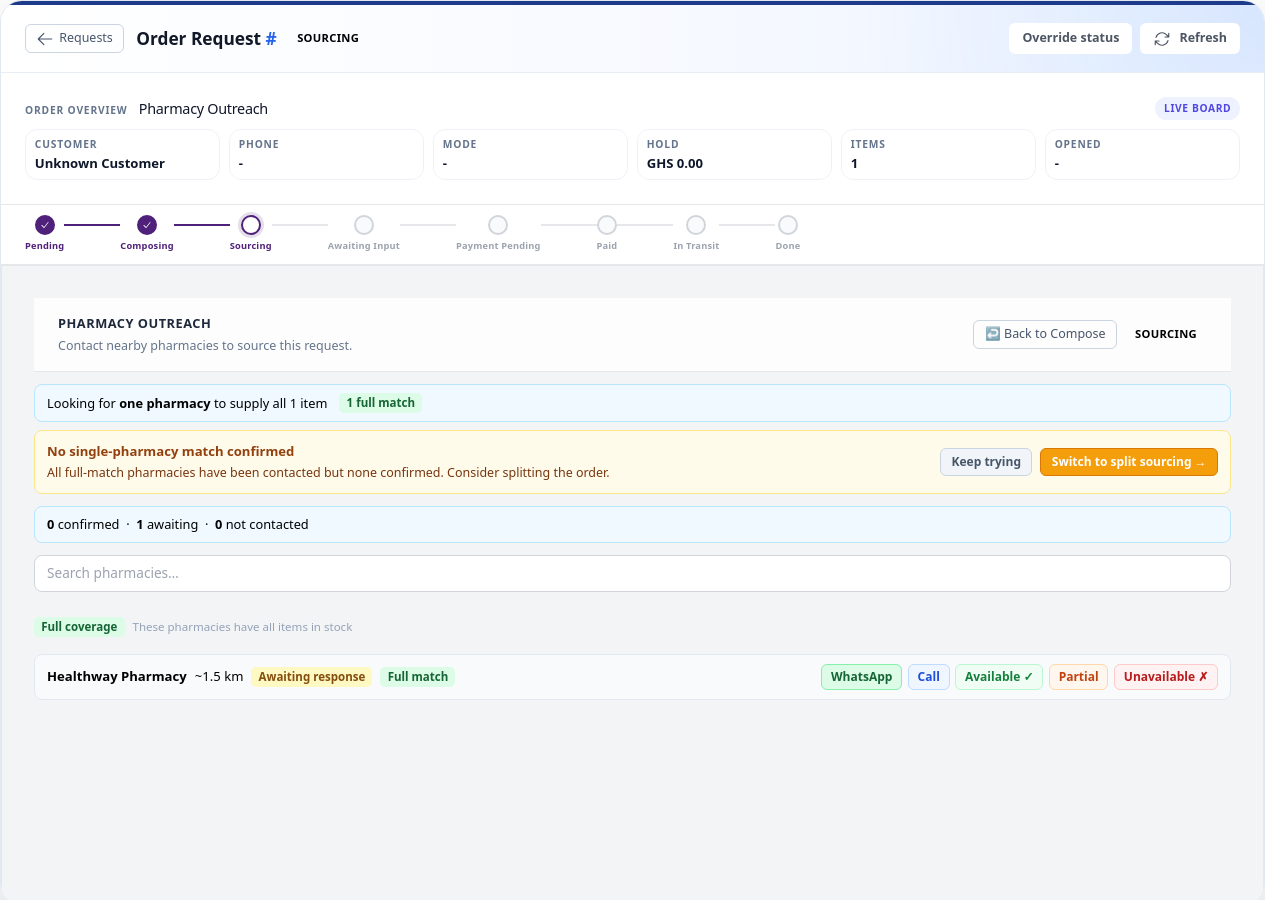
Test: outreach board: a pharmacy that cannot help › marks it unavailable and says so
Click the button "Unavailable ✗": (1166, 677) [1114,664,1218,690]
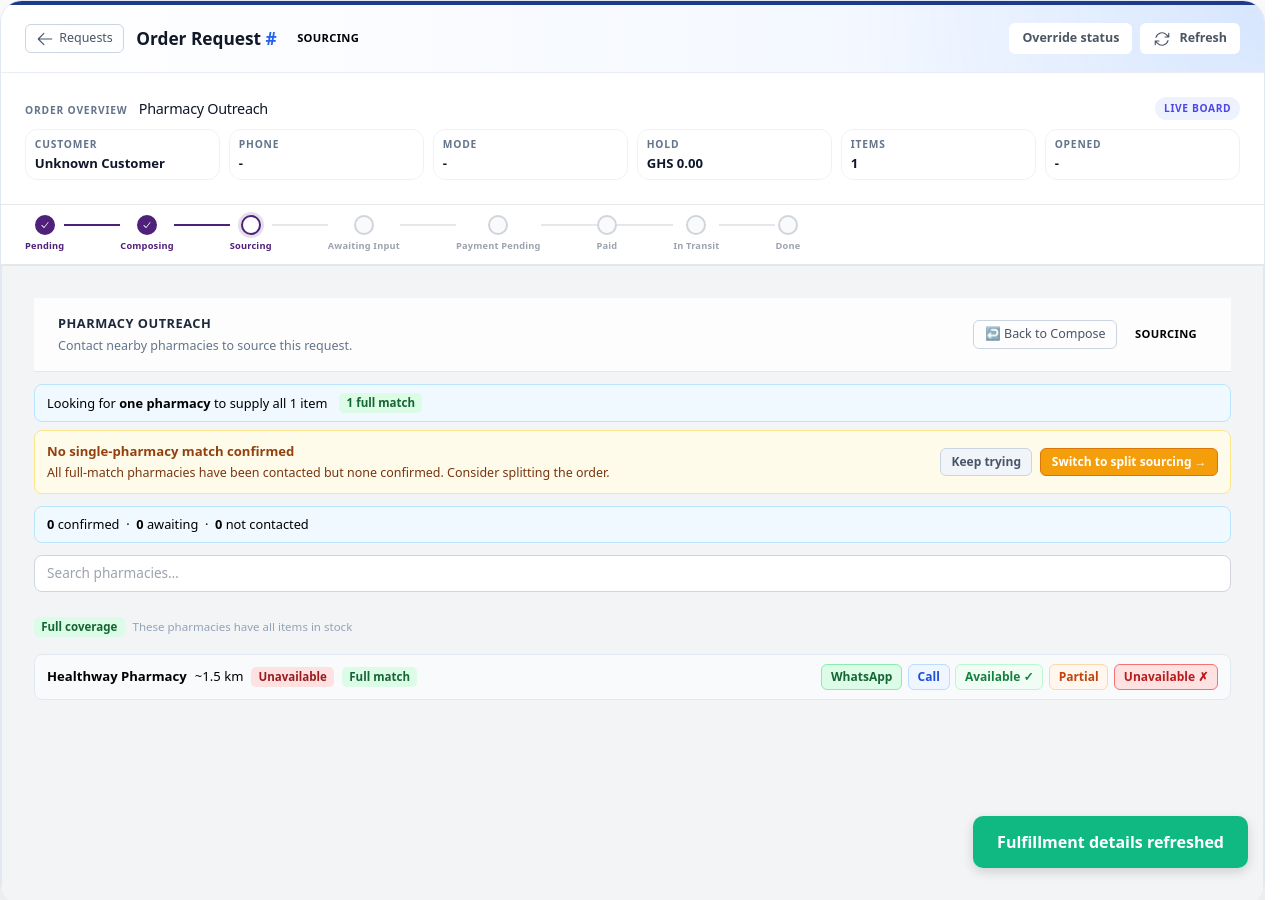
expect the text with class "outreach-queue-chip" reads "Unavailable": met, box [259,669,327,684]
